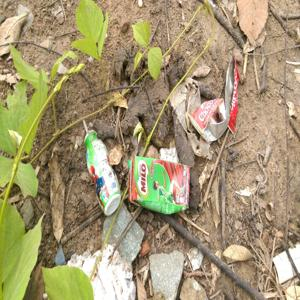cardboard: (123, 152, 194, 217)
plastic: (69, 113, 134, 227), (186, 47, 250, 157)
